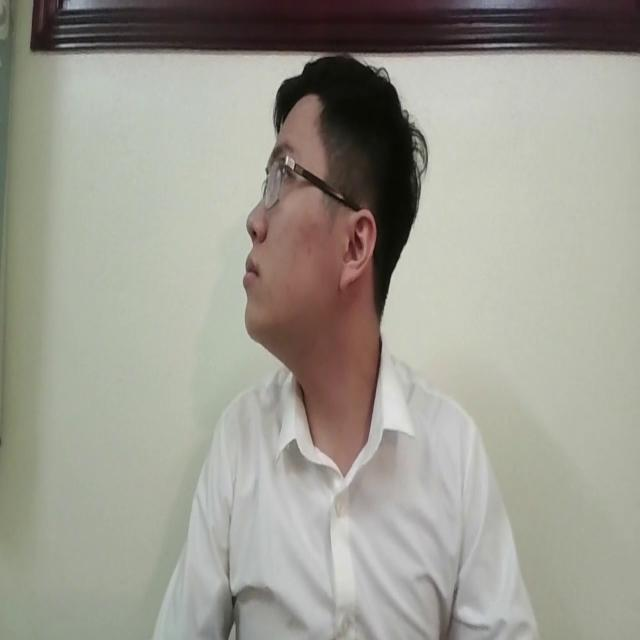student: (154, 46, 540, 640)
